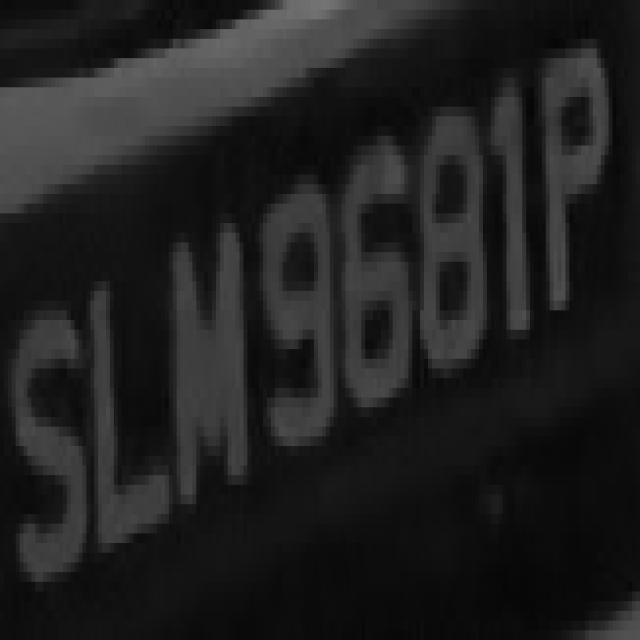1: (487, 39, 538, 378)
6: (338, 136, 412, 446)
8: (400, 97, 487, 417)
9: (252, 146, 350, 446)
L: (86, 262, 180, 562)
M: (165, 184, 259, 524)
P: (542, 19, 628, 349)
S: (0, 271, 90, 601)
